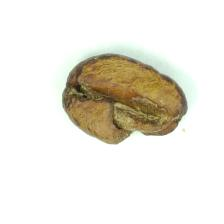NG: (107, 91, 171, 147), (62, 65, 104, 113)
